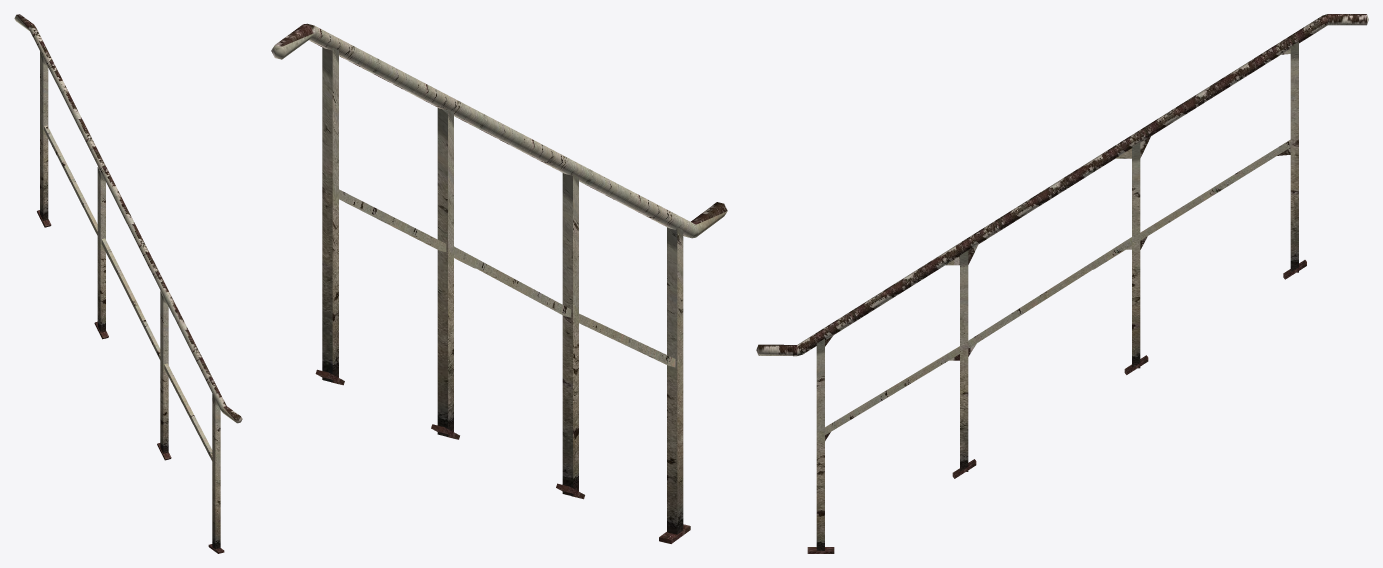
The model's file is Handrail04_SingleRise.glb.
3 renders of one model, left to right at view 1: azimuth 30°, elevation 25°; view 2: azimuth 150°, elevation 25°; view 3: azimuth 270°, elevation 25°, orthographic. The views are drawn at different scales.
Parts seen in each view (by area): view 1: 0_HandrailMetal001a; view 2: 0_HandrailMetal001a; view 3: 0_HandrailMetal001a.
Part boxes in pixels (x1,y1,x2,y2): 0_HandrailMetal001a: [14, 14, 242, 553]; 0_HandrailMetal001a: [271, 23, 727, 543]; 0_HandrailMetal001a: [756, 14, 1368, 553].
Bounding box in the file's own units: 0.0509 × 2.65 × 2.74.
1 material, 1 textured.
